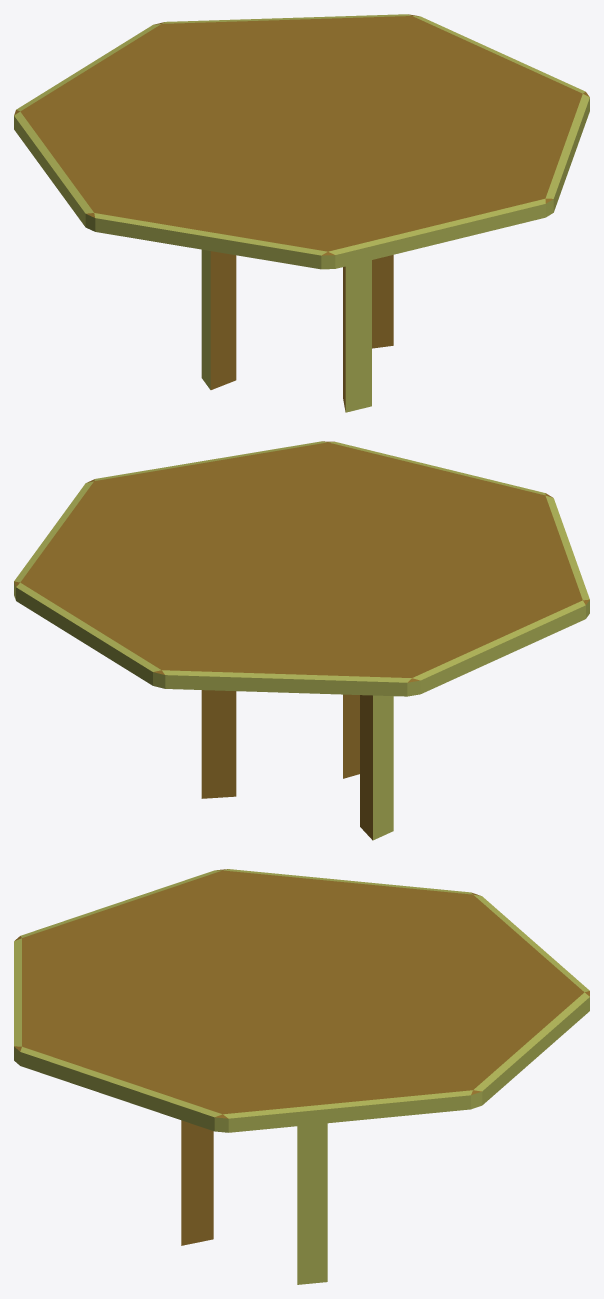
The model's file is Table_Material.fbx.
3 views of the same model, one above another, from view 1: azimuth 30°, elevation 25°; view 2: azimuth 150°, elevation 25°; view 3: azimuth 270°, elevation 25° (orthographic). The views are drawn at different scales.
Parts seen in each view (by area): view 1: Table; view 2: Table; view 3: Table.
Boxes of the visible parts, x1,y1,x2,y2 form: Table: (14,14,589,412); Table: (14,441,589,840); Table: (14,869,589,1284).
Size of the model in its own units: 1.38 by 0.6381 by 1.35.
